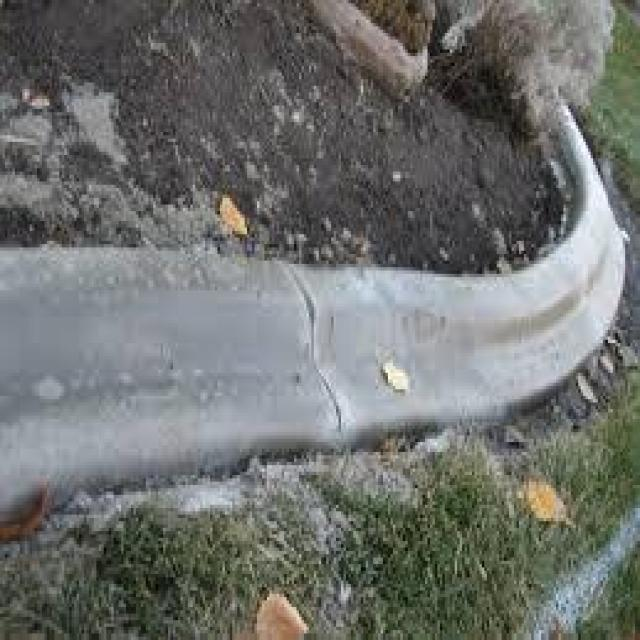curb: (6, 193, 628, 510)
